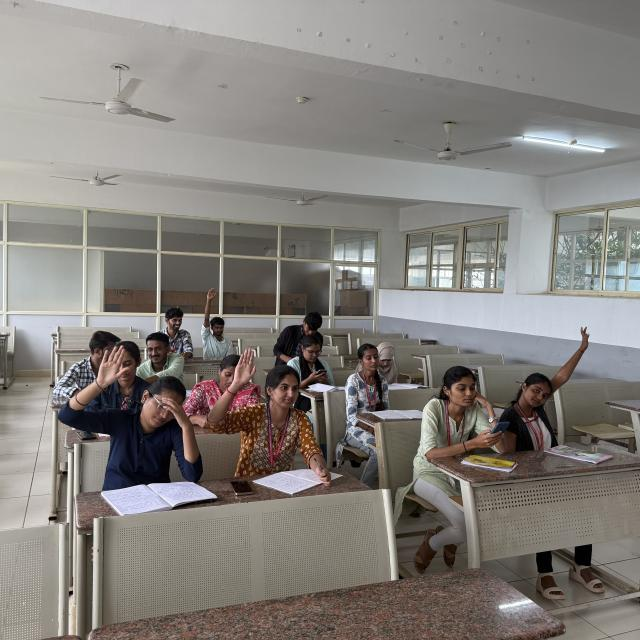Hand Rising: (68, 346, 191, 479), (210, 347, 310, 463), (512, 326, 591, 434), (196, 288, 233, 357)
Using Phone: (422, 365, 511, 457), (290, 336, 336, 382)
